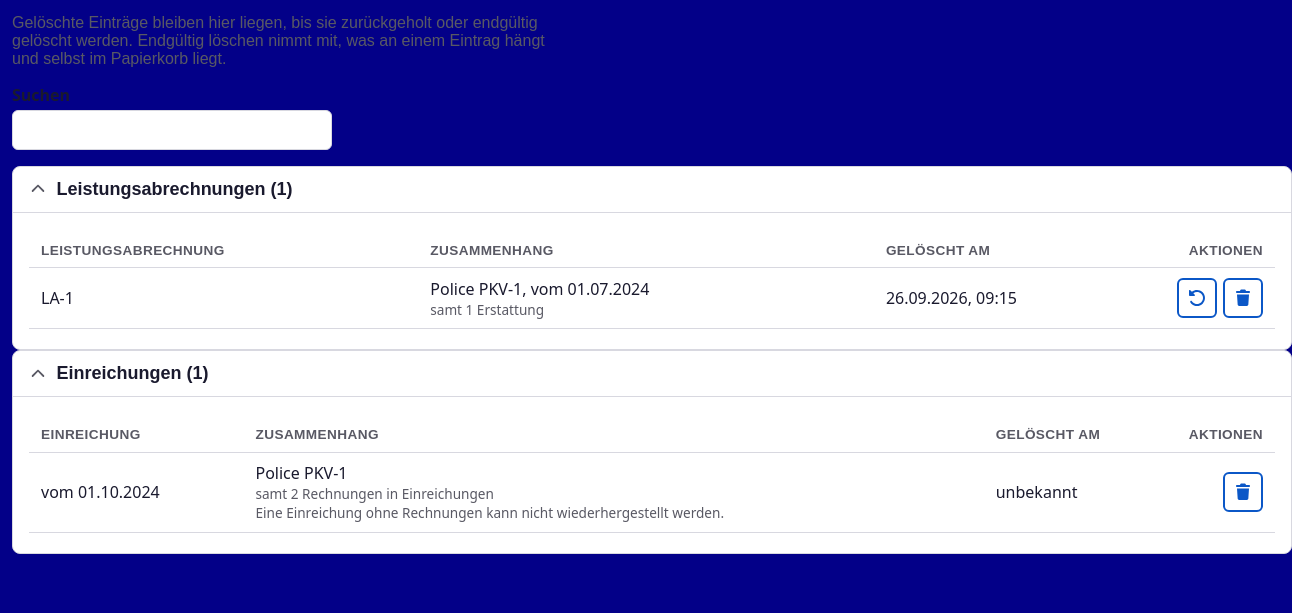
Test case: TrashView › shows the failure at the row and leaves the list as it was
The image size is (1292, 613).
Click the button named "Leistungsabrechnung wiederherstellen".
click(1197, 298)  # box [1177,278,1217,318]
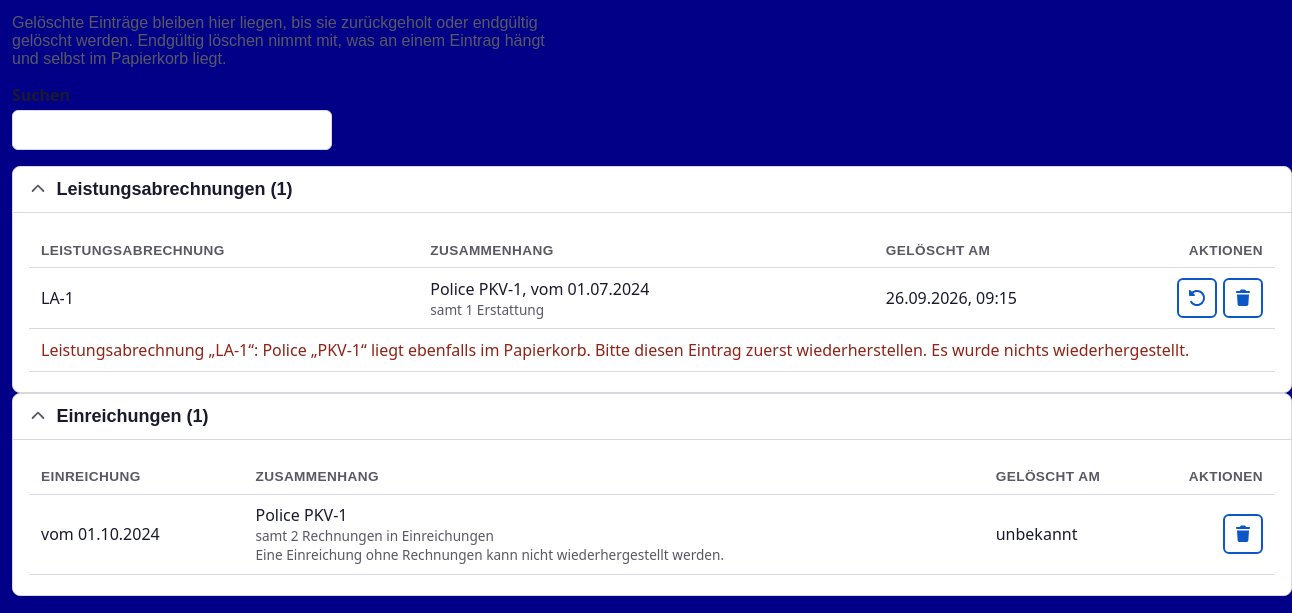
Check: the message is shown, box [29,329,1275,371]
Check: the message shows "Police „PKV-1“ liegt ebenfalls im Papierkorb", box [41,339,1189,361]
Check: the message shows "Es wurde nichts wiederhergestellt.", box [41,339,1189,361]
